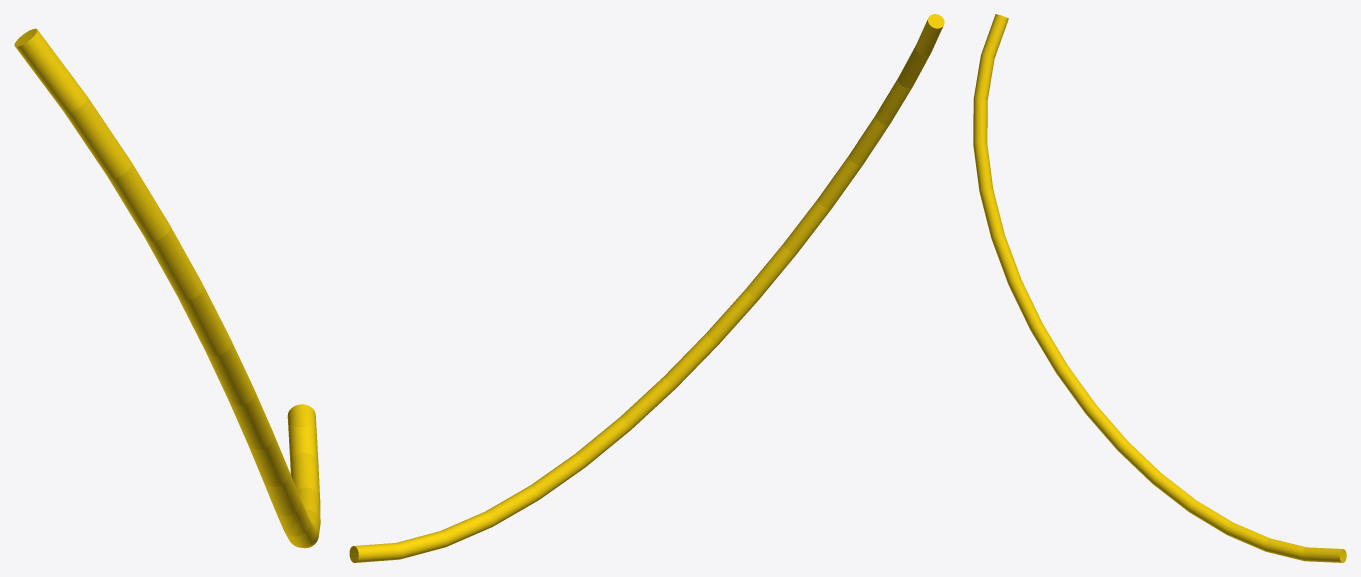
Rendered from Event_420094457_track_87.fbx.
3 views of the same model, side by side, from view 1: azimuth 30°, elevation 25°; view 2: azimuth 150°, elevation 25°; view 3: azimuth 270°, elevation 25° (orthographic). The views are drawn at different scales.
Visible parts, largest first — view 1: Model; view 2: Model; view 3: Model.
Part boxes in pixels (x1,y1,x2,y2): Model: [14, 28, 320, 548]; Model: [349, 14, 944, 562]; Model: [973, 14, 1346, 562].
Size of the model in its own units: 1.05 by 1.27 by 1.06.
